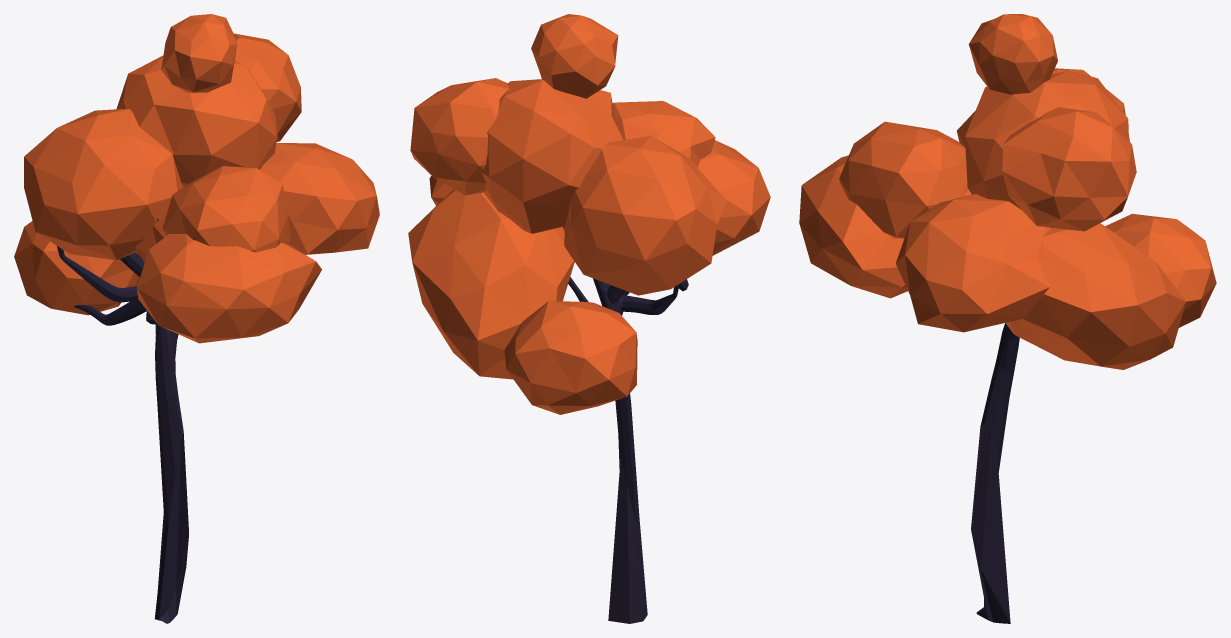
The model's file is env_tree_type2_v2.fbx.
The picture shows the model from 3 angles, left to right: view 1: azimuth 30°, elevation 25°; view 2: azimuth 150°, elevation 25°; view 3: azimuth 270°, elevation 25°; orthographic projection. The views are drawn at different scales.
Visible parts, largest first — view 1: leaves 2, trunk 2; view 2: leaves 2, trunk 2; view 3: leaves 2, trunk 2.
Boxes of the visible parts, <box> form: leaves 2: <box>14,14,379,343</box>; trunk 2: <box>57,218,188,623</box>; leaves 2: <box>408,14,770,414</box>; trunk 2: <box>568,277,688,623</box>; leaves 2: <box>799,14,1216,369</box>; trunk 2: <box>971,323,1019,623</box>.
Bounding box in the file's own units: 970 × 1771 × 1072.
